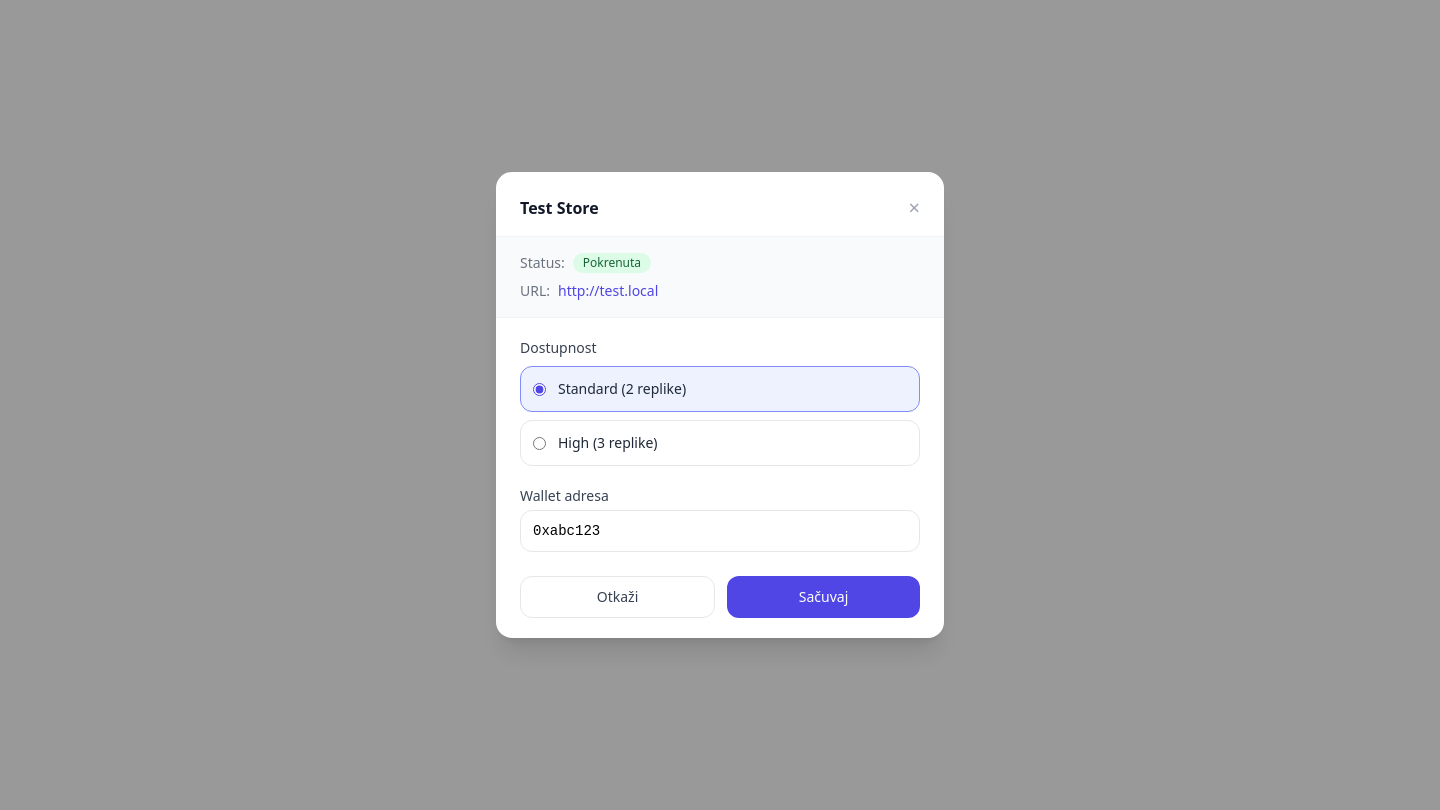
Test: ConfigureStoreModal › shows error when wallet address is empty
Clear the field with placeholder "0x..." at (720, 531), box left=520, top=510, right=920, bottom=552
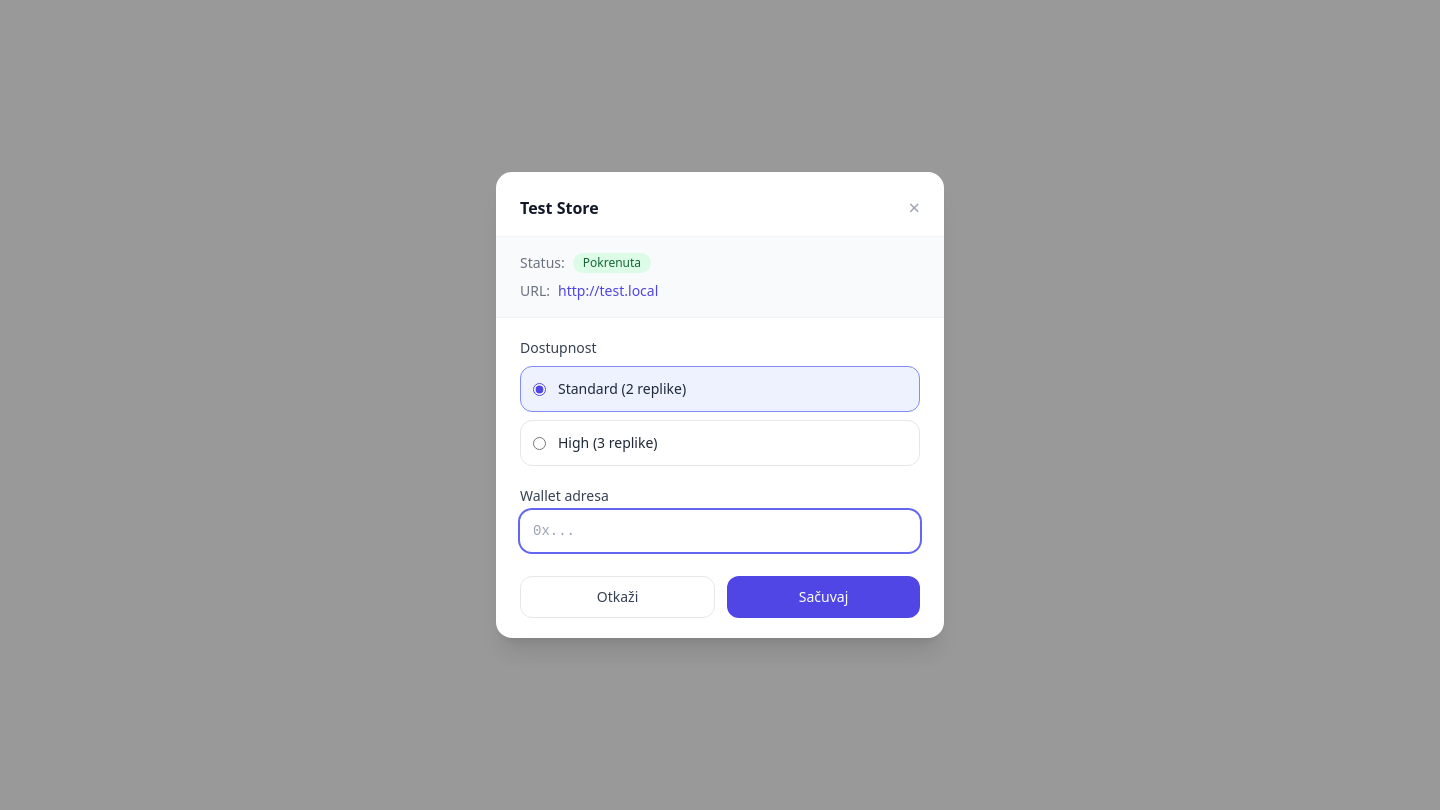
Click the button "Sačuvaj" at (824, 597), box left=727, top=576, right=920, bottom=618
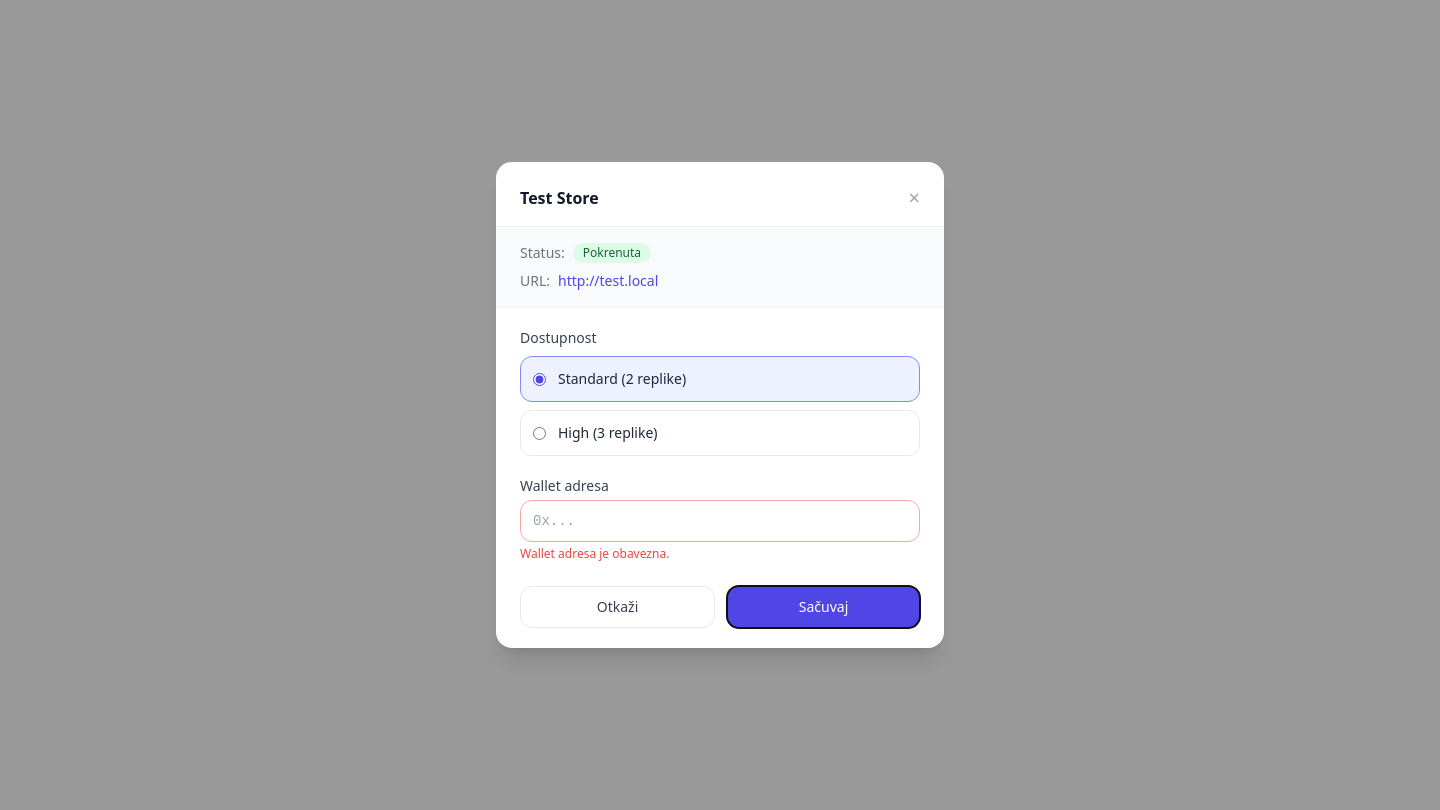
Expected: the text "Wallet adresa je obavezna." is shown, left=520, top=545, right=669, bottom=562
